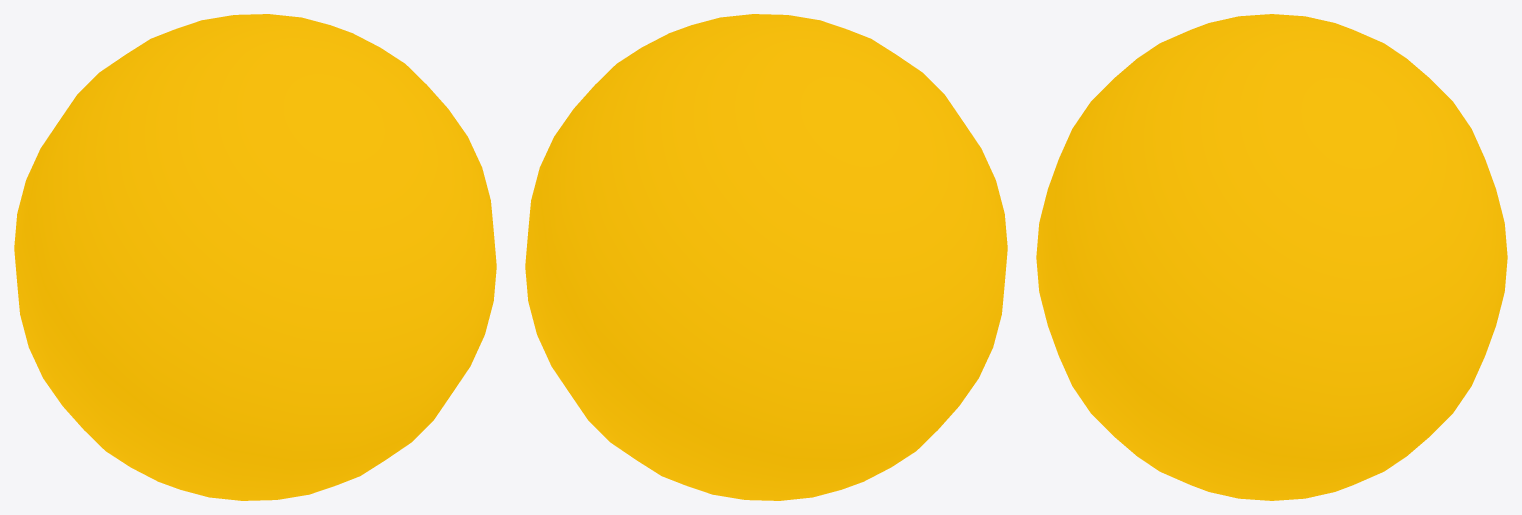
Rendered from sun.fbx.
3 renders of one model, left to right at view 1: azimuth 30°, elevation 25°; view 2: azimuth 150°, elevation 25°; view 3: azimuth 270°, elevation 25°, orthographic.
Parts seen in each view (by area): view 1: pSphere1; view 2: pSphere1; view 3: pSphere1.
Part boxes in pixels (bbox=[...]): pSphere1: bbox=[14, 14, 496, 500]; pSphere1: bbox=[525, 14, 1007, 500]; pSphere1: bbox=[1036, 14, 1507, 500].
Bounding box in the file's own units: 7.37 × 7.37 × 7.13.
